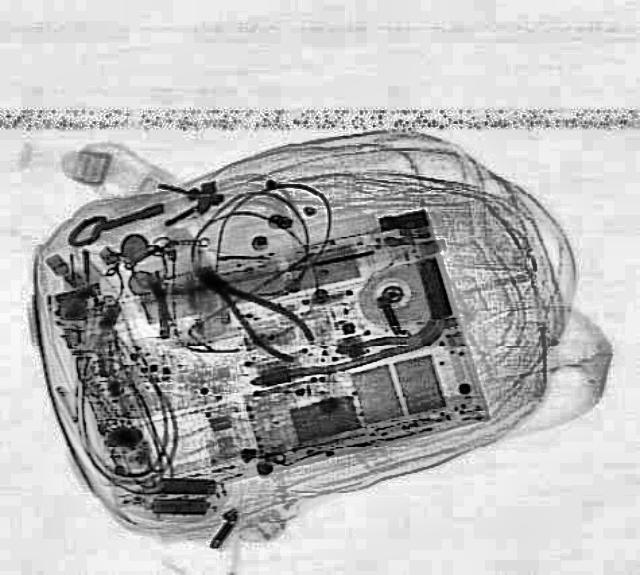Pliers: (178, 251, 322, 367)
